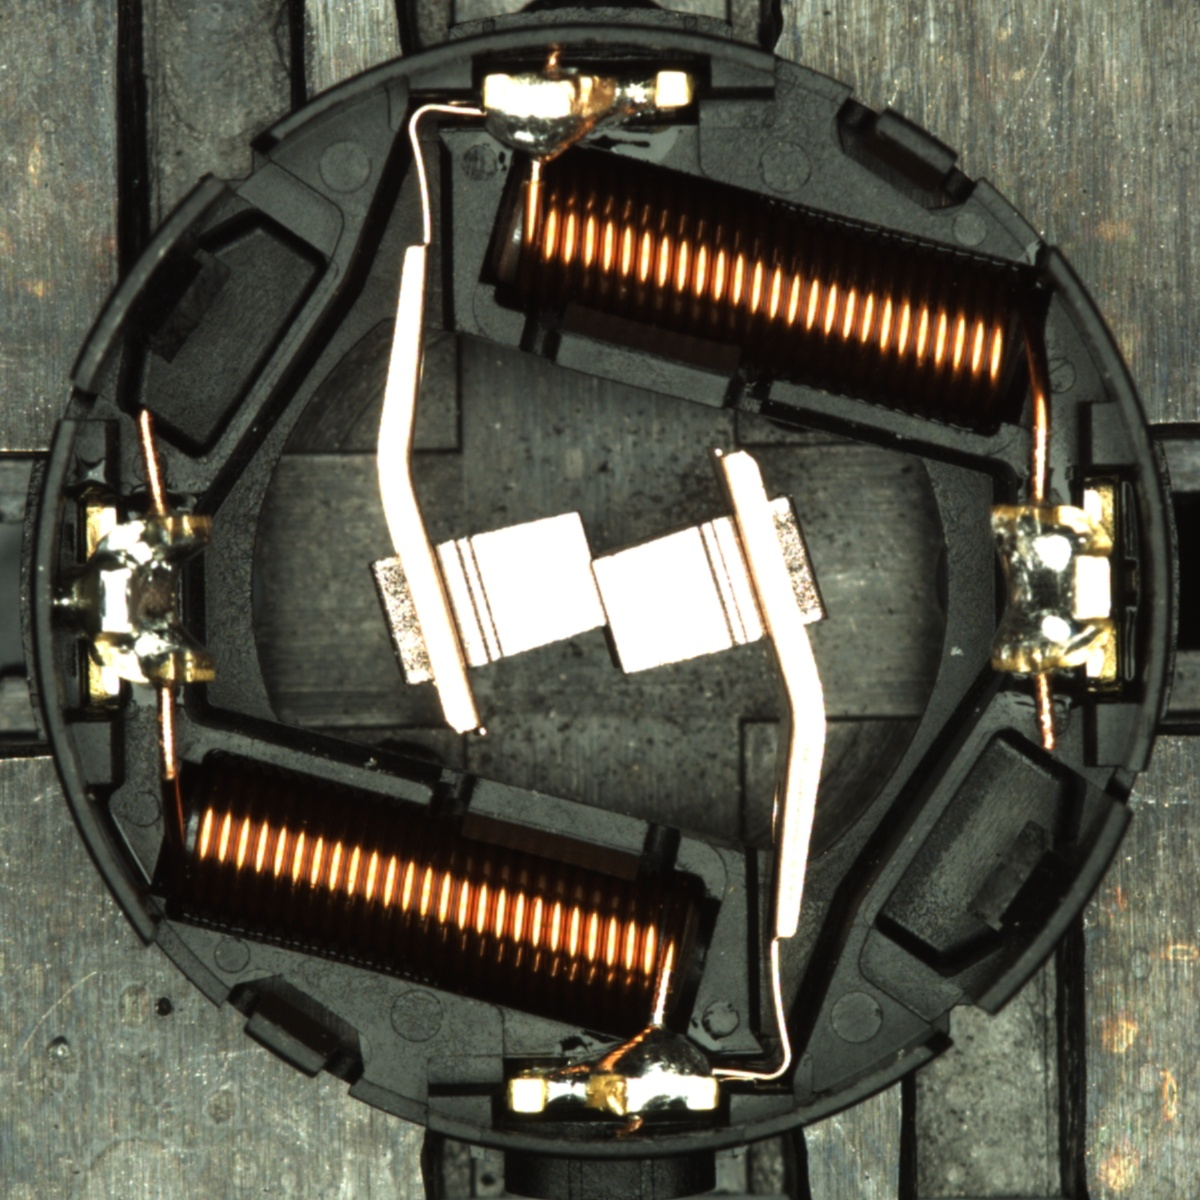1: (709, 927, 938, 1153), (251, 31, 480, 255)
2: (251, 927, 480, 1153), (709, 31, 938, 255)
3: (21, 255, 251, 479), (938, 704, 1168, 927)
4: (251, 255, 480, 479), (709, 704, 938, 927)
5: (480, 143, 709, 367), (480, 816, 709, 1040)
6: (709, 255, 938, 479), (251, 704, 480, 927)
7: (938, 255, 1168, 479), (21, 704, 251, 927)
cacbon: (396, 498, 793, 685)
chau_dien: (80, 497, 221, 699), (981, 487, 1122, 684)
chi_dinh_thanh_de: (48, 577, 73, 625)
tay_choi: (480, 68, 697, 165), (505, 1024, 719, 1120)
thanh_de: (951, 786, 1138, 1031), (59, 164, 244, 405)
vun_chi: (49, 565, 100, 633)
